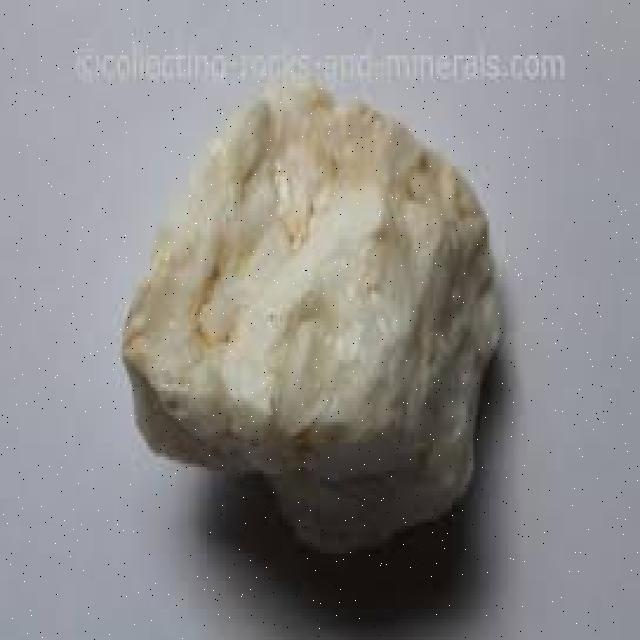Metamorphic: (118, 90, 518, 547)
